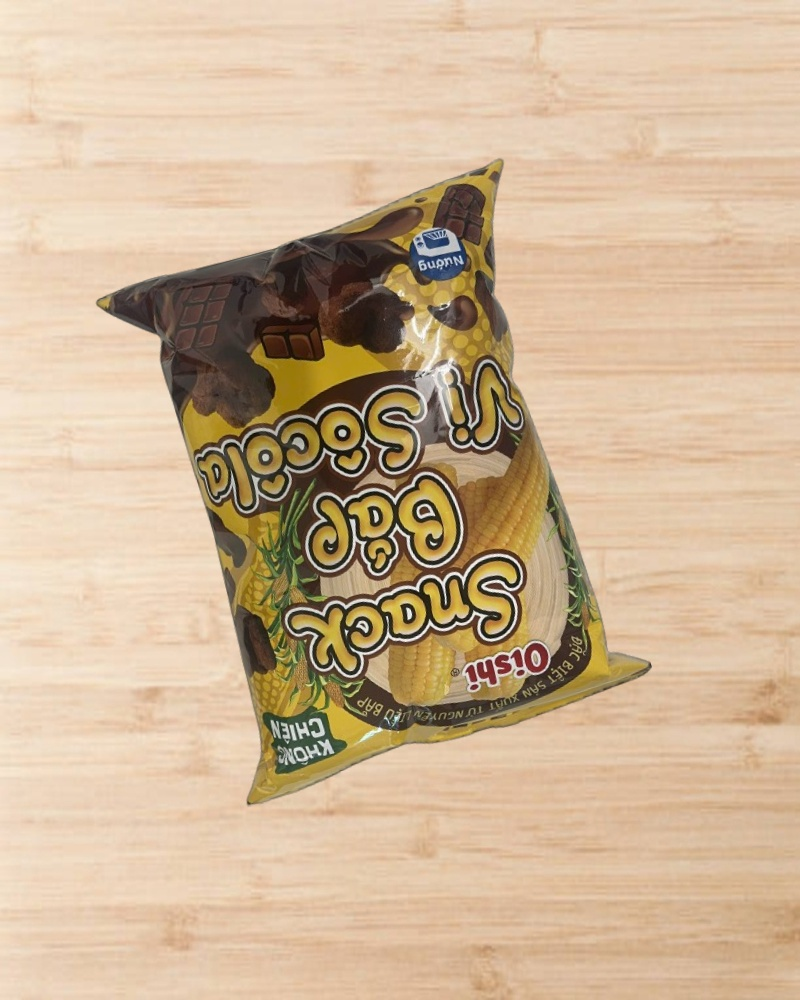Snack socola: (90, 158, 659, 809)
